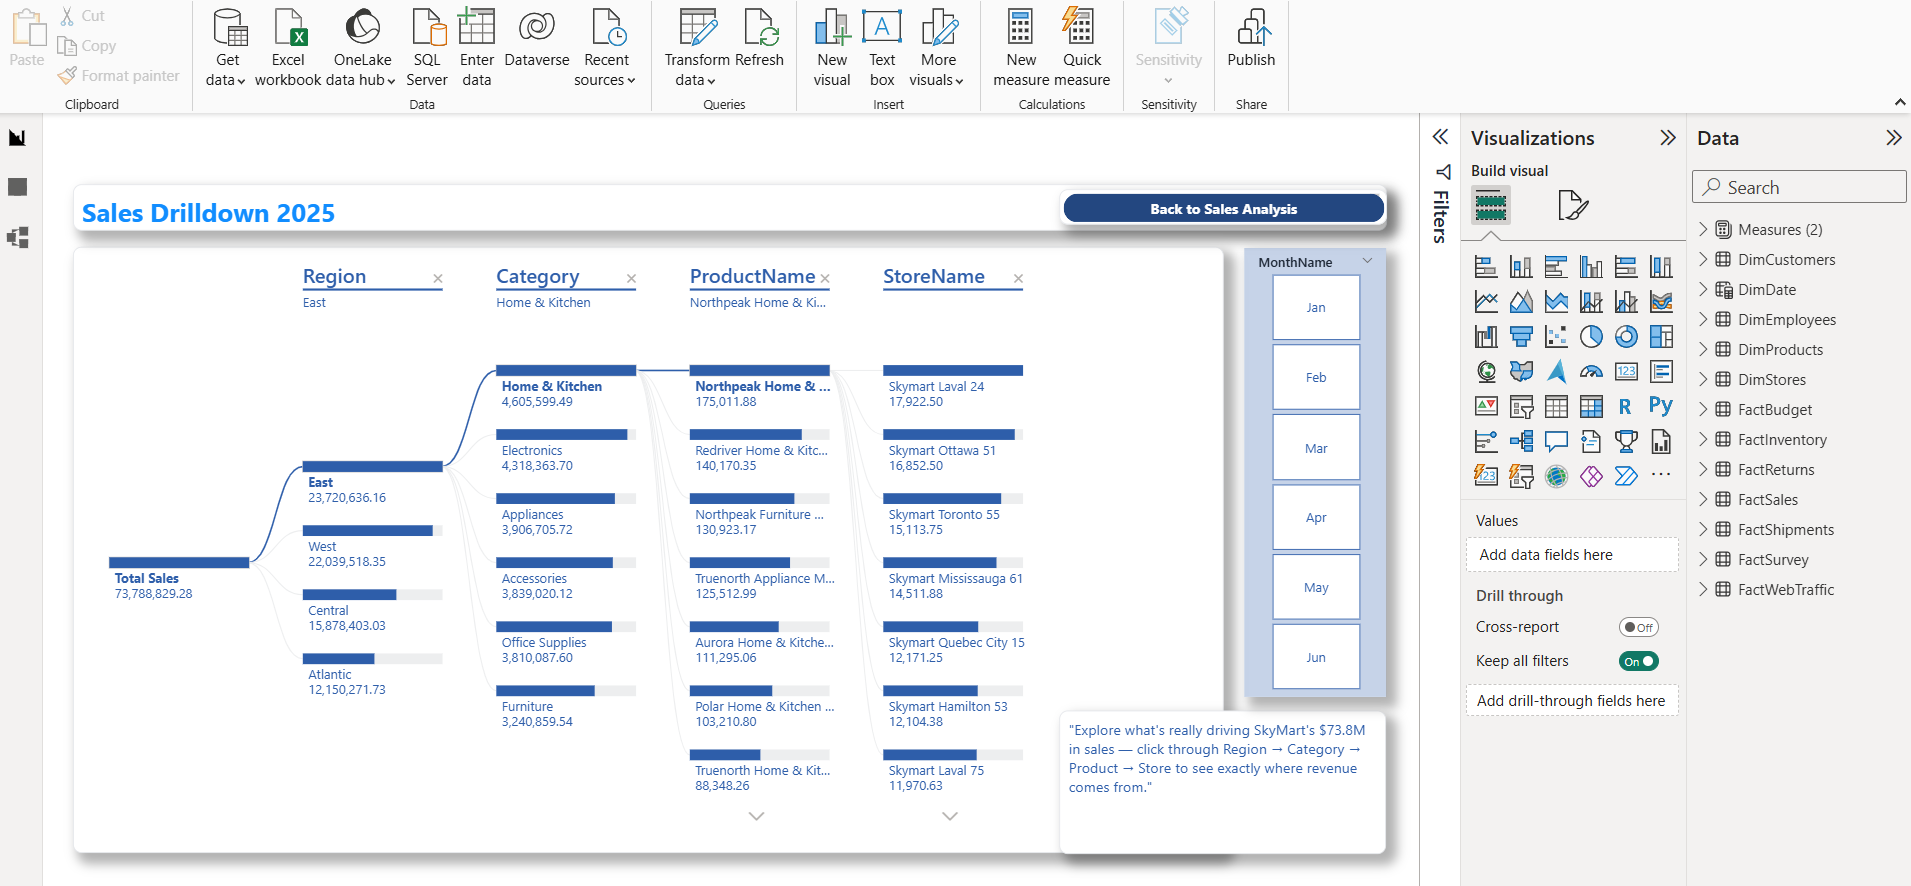

What the dashboard file says about the page in this screenshot:
{"tool":"powerbi","page":{"name":"Sales Drilldown","canvas":[1280,720],"ordinal":2},"visuals":[{"type":"decompositionTreeVisual","fields":{"Analyze":["Measures (2).Total Sales"],"ExplainBy":["DimStores.Region","DimProducts.Category","DimProducts.ProductName","DimStores.StoreName"]},"box":[27.4,124.9,1070.3,564],"z":0},{"type":"textbox","box":[27.9,66.3,1222.1,43],"z":1000},{"type":"actionButton","box":[945.5,71.4,304.6,32.9],"z":2000},{"type":"textbox","box":[945.1,556,304.3,133.3],"z":3000},{"type":"slicer","fields":{"Values":["DimDate.MonthName"]},"box":[1117.4,125.2,131.9,417.3],"z":4000}]}

Visuals, with their boxes on the page's 1280x720 design canvas (x1, y1, x2, y2). These are canvas units, not pixel positions in the 1911x886 screenshot, which may show the page scaled, cropped or inside an application window:
decompositionTreeVisual - Measures (2).Total Sales x DimStores.Region: locate(27, 125, 1098, 689)
textbox: locate(28, 66, 1250, 109)
actionButton: locate(946, 71, 1250, 104)
textbox: locate(945, 556, 1249, 689)
slicer - DimDate.MonthName: locate(1117, 125, 1249, 542)
